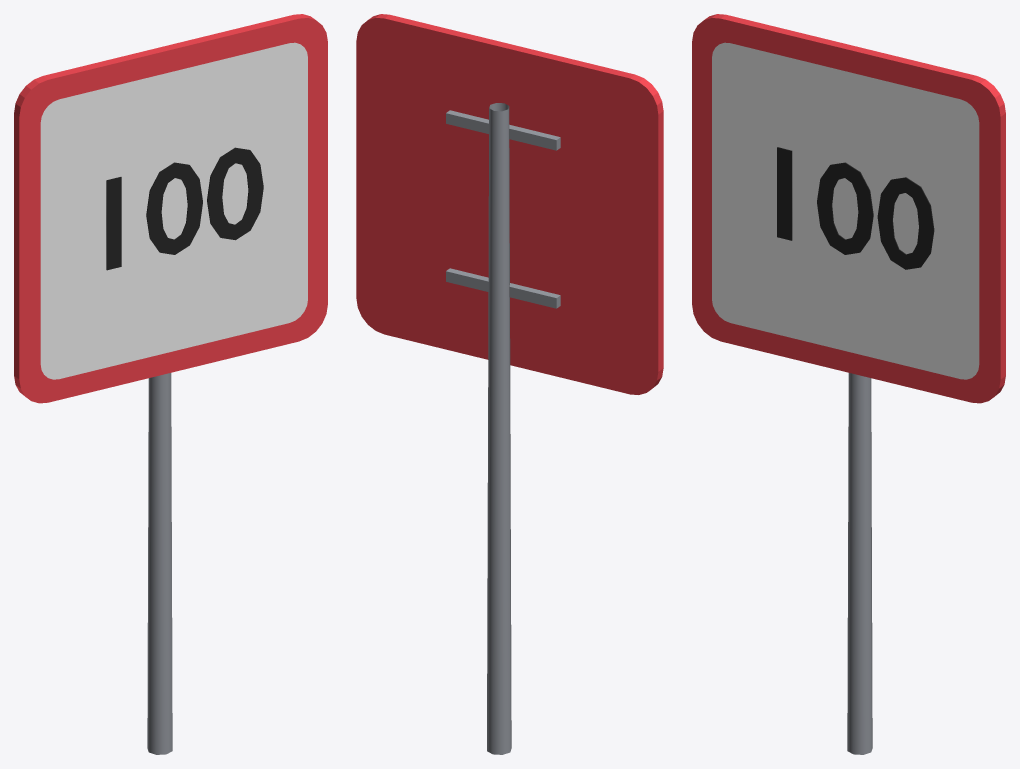
The model's file is placa_100.glb.
3 renders of one model, left to right at view 1: azimuth 30°, elevation 25°; view 2: azimuth 150°, elevation 25°; view 3: azimuth 330°, elevation 25°, orthographic. The views are drawn at different scales.
Parts seen in each view (by area): view 1: branco, vermelho, metal, t; view 2: vermelho, metal; view 3: branco, vermelho, metal, t.
Part boxes in pixels (bbox=[...]): branco: bbox=[40, 42, 307, 379]; vermelho: bbox=[14, 14, 327, 403]; metal: bbox=[147, 373, 172, 754]; t: bbox=[106, 147, 263, 270]; vermelho: bbox=[356, 14, 663, 394]; metal: bbox=[446, 103, 560, 754]; branco: bbox=[712, 42, 979, 379]; vermelho: bbox=[692, 14, 1005, 403]; metal: bbox=[847, 373, 872, 754]; t: bbox=[777, 147, 934, 269].
Bounding box in the file's own units: 3 × 6.6 × 0.362.
